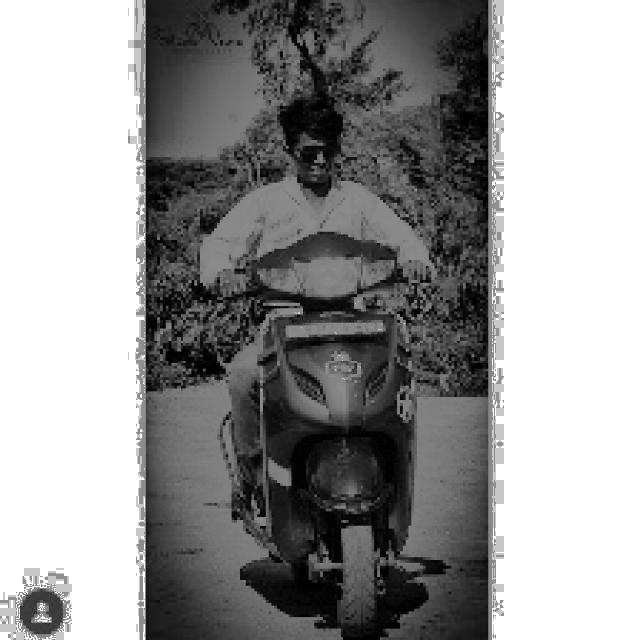Bike: (226, 250, 434, 639)
